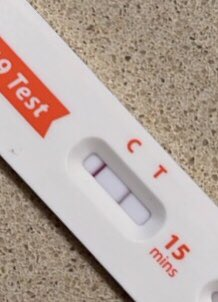positive: (86, 154, 144, 225)
